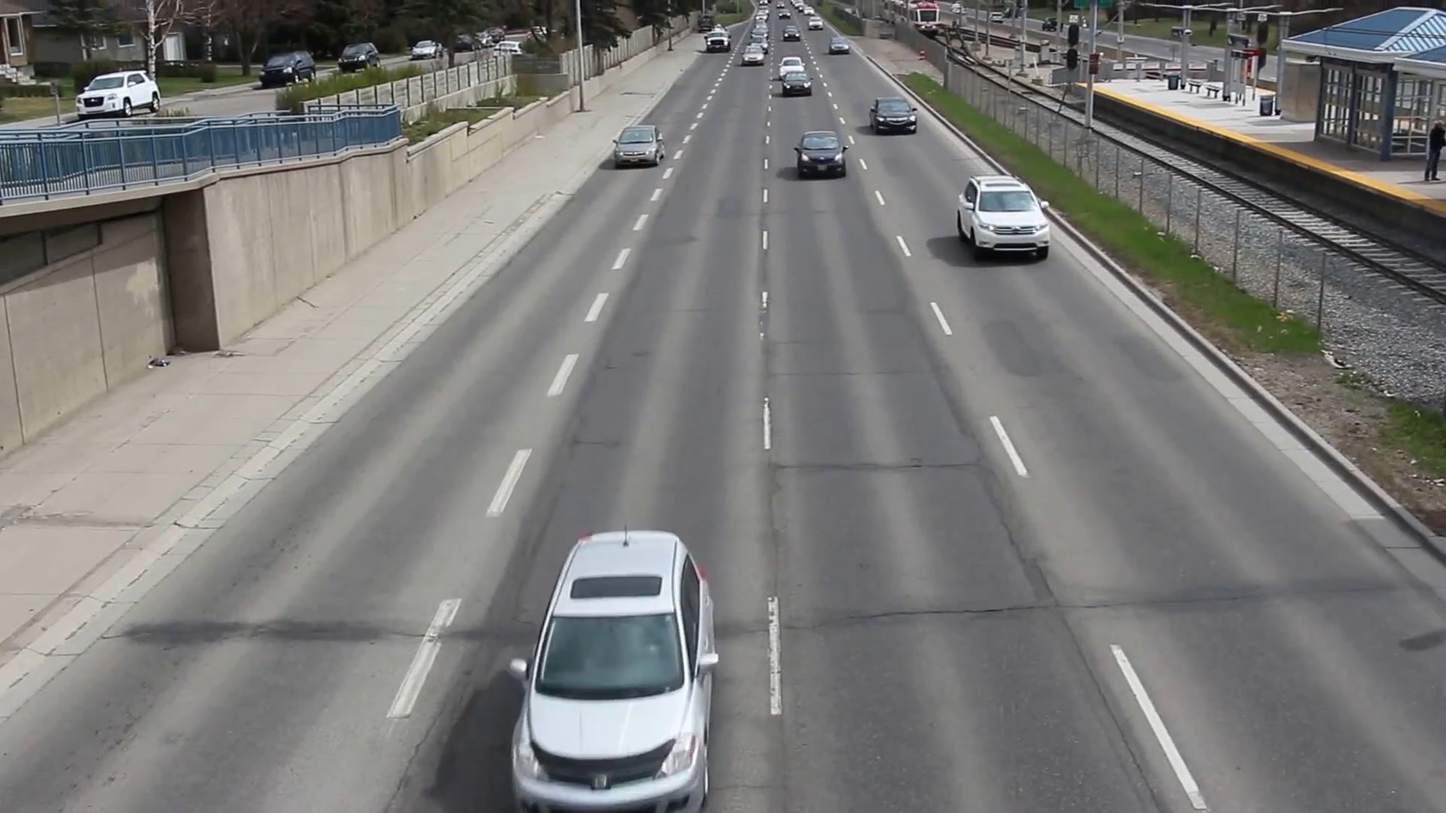car: (514, 524, 722, 813), (959, 179, 1055, 255), (610, 128, 661, 170), (795, 136, 844, 178), (870, 100, 921, 136)
